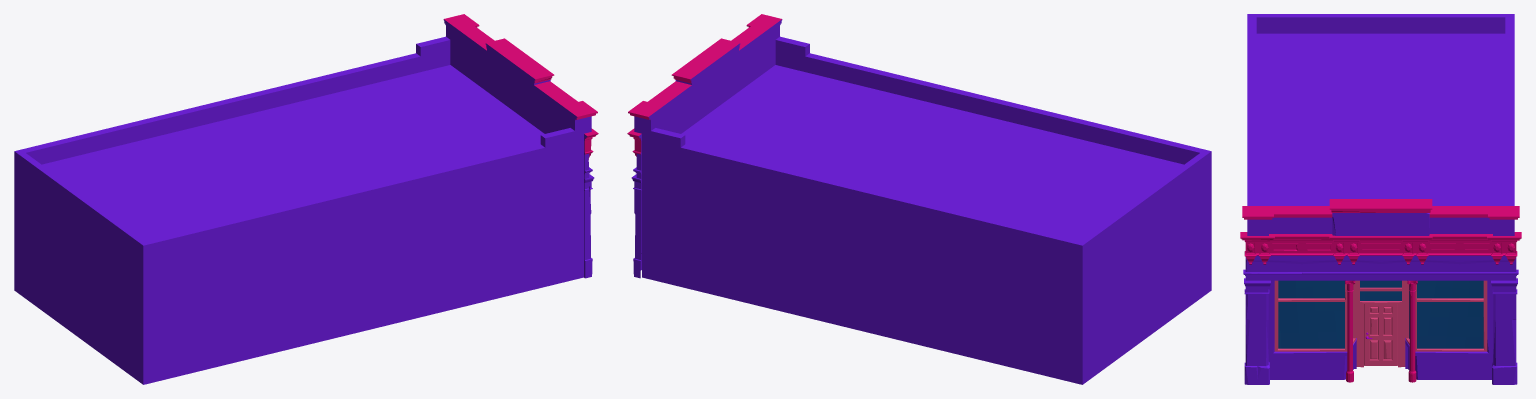
The model's file is Backhill_Building01.fbx.
3 renders of one model, left to right at view 1: azimuth 30°, elevation 25°; view 2: azimuth 150°, elevation 25°; view 3: azimuth 270°, elevation 25°, orthographic. The views are drawn at different scales.
Parts seen in each view (by area): view 1: SM_Backhill_Building_01b.mo; view 2: SM_Backhill_Building_01b.mo; view 3: SM_Backhill_Building_01b.mo.
Part boxes in pixels (bbox=[...]): SM_Backhill_Building_01b.mo: bbox=[14, 14, 598, 384]; SM_Backhill_Building_01b.mo: bbox=[627, 14, 1211, 384]; SM_Backhill_Building_01b.mo: bbox=[1240, 14, 1521, 384].
Size of the model in its own units: 1677 by 607 by 871.
